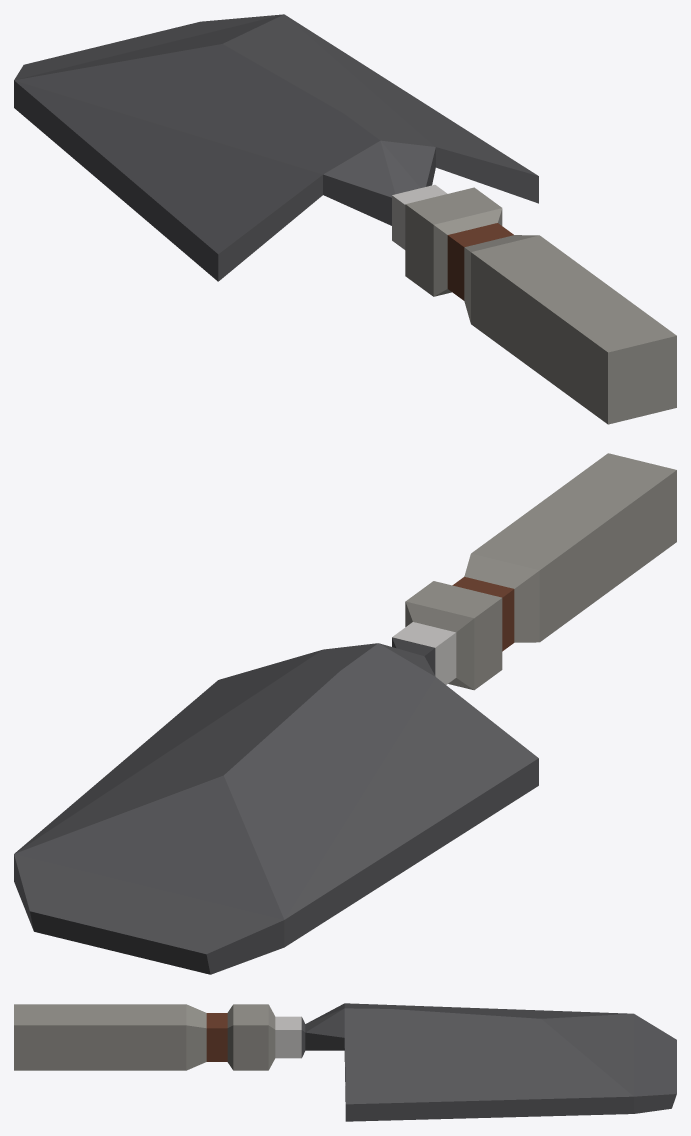
The model's file is SM_Item_Garden_Trowel_01.fbx.
3 views of the same model, one above another, from view 1: azimuth 30°, elevation 25°; view 2: azimuth 150°, elevation 25°; view 3: azimuth 270°, elevation 25° (orthographic). The views are drawn at different scales.
Visible parts, largest first — view 1: SM_Item_Garden_Trowel_01; view 2: SM_Item_Garden_Trowel_01; view 3: SM_Item_Garden_Trowel_01.
Boxes of the visible parts, x1,y1,x2,y2 form: SM_Item_Garden_Trowel_01: [14, 14, 676, 424]; SM_Item_Garden_Trowel_01: [14, 453, 676, 974]; SM_Item_Garden_Trowel_01: [14, 1003, 676, 1121].
Size of the model in its own units: 15.97 by 5.65 by 45.51.
